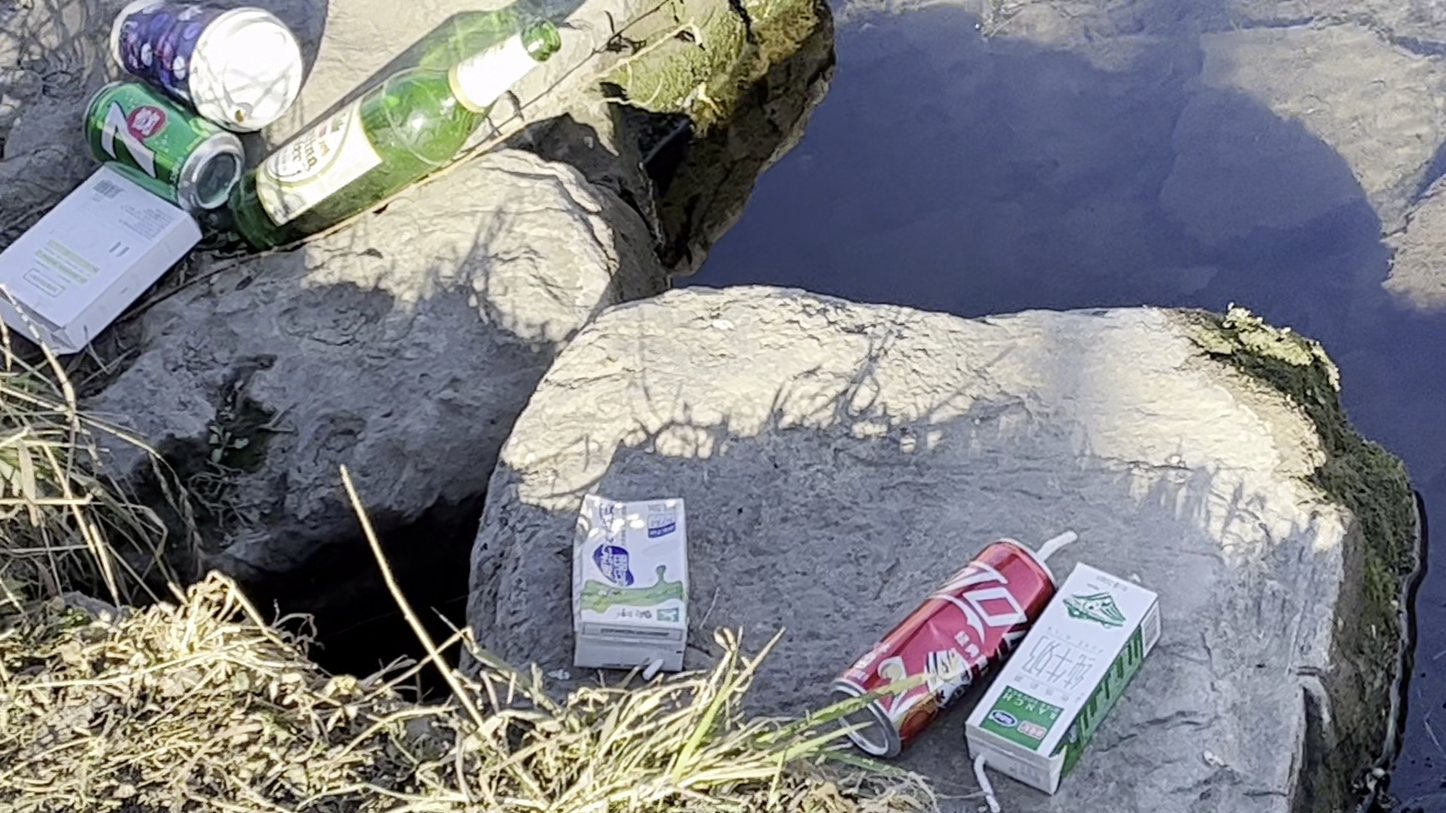floating_object: (227, 20, 561, 245), (829, 529, 1078, 759), (965, 561, 1161, 797), (1, 163, 201, 355), (108, 1, 304, 131), (572, 495, 689, 680), (81, 81, 243, 214)
